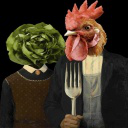Fork: (62, 58, 89, 128)
